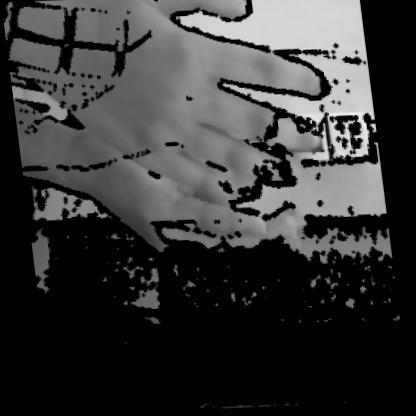dua: (4, 0, 362, 267)
